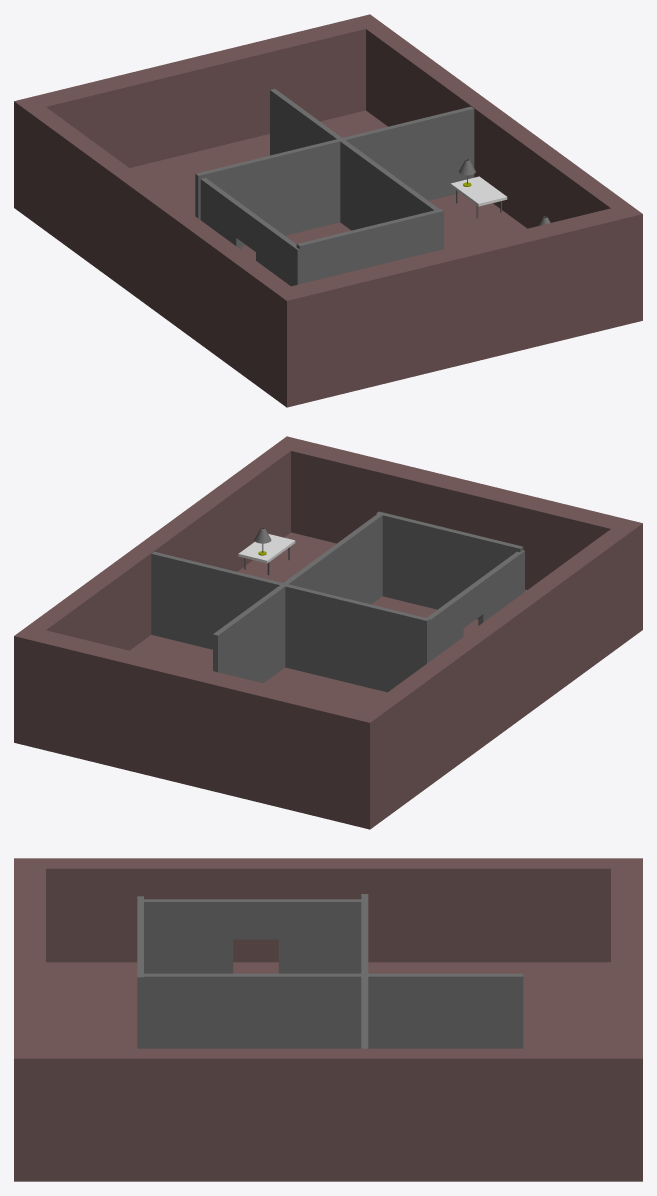
The model's file is piso2.fbx.
3 views of the same model, one above another, from view 1: azimuth 30°, elevation 25°; view 2: azimuth 150°, elevation 25°; view 3: azimuth 270°, elevation 25° (orthographic). The views are drawn at different scales.
Parts seen in each view (by area): view 1: polySurface5, polySurface4, polySurface3, polySurface1, polySurface2, polySurface18; view 2: polySurface5, polySurface4, polySurface3, polySurface1, polySurface2, polySurface10; view 3: polySurface5, polySurface3, polySurface2, polySurface4, polySurface1.
Boxes of the visible parts, x1,y1,x2,y2 form: polySurface5: [14, 14, 642, 407]; polySurface4: [195, 106, 474, 246]; polySurface3: [270, 89, 439, 230]; polySurface1: [296, 209, 443, 283]; polySurface2: [200, 177, 299, 286]; polySurface18: [450, 176, 507, 206]; polySurface5: [14, 436, 642, 829]; polySurface4: [151, 551, 429, 692]; polySurface3: [213, 512, 383, 683]; polySurface1: [376, 511, 523, 619]; polySurface2: [427, 550, 524, 660]; polySurface10: [238, 534, 295, 563]; polySurface5: [14, 858, 642, 1181]; polySurface3: [139, 973, 523, 1048]; polySurface2: [144, 899, 361, 973]; polySurface4: [361, 894, 368, 1048]; polySurface1: [137, 896, 143, 1048].
Size of the model in its own units: 4.32 by 1.24 by 5.73.
